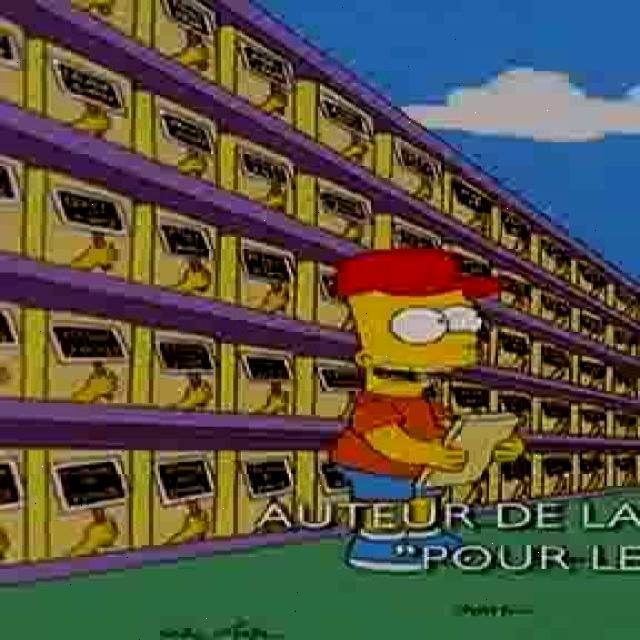Bart Simpson: (343, 248, 492, 404)
